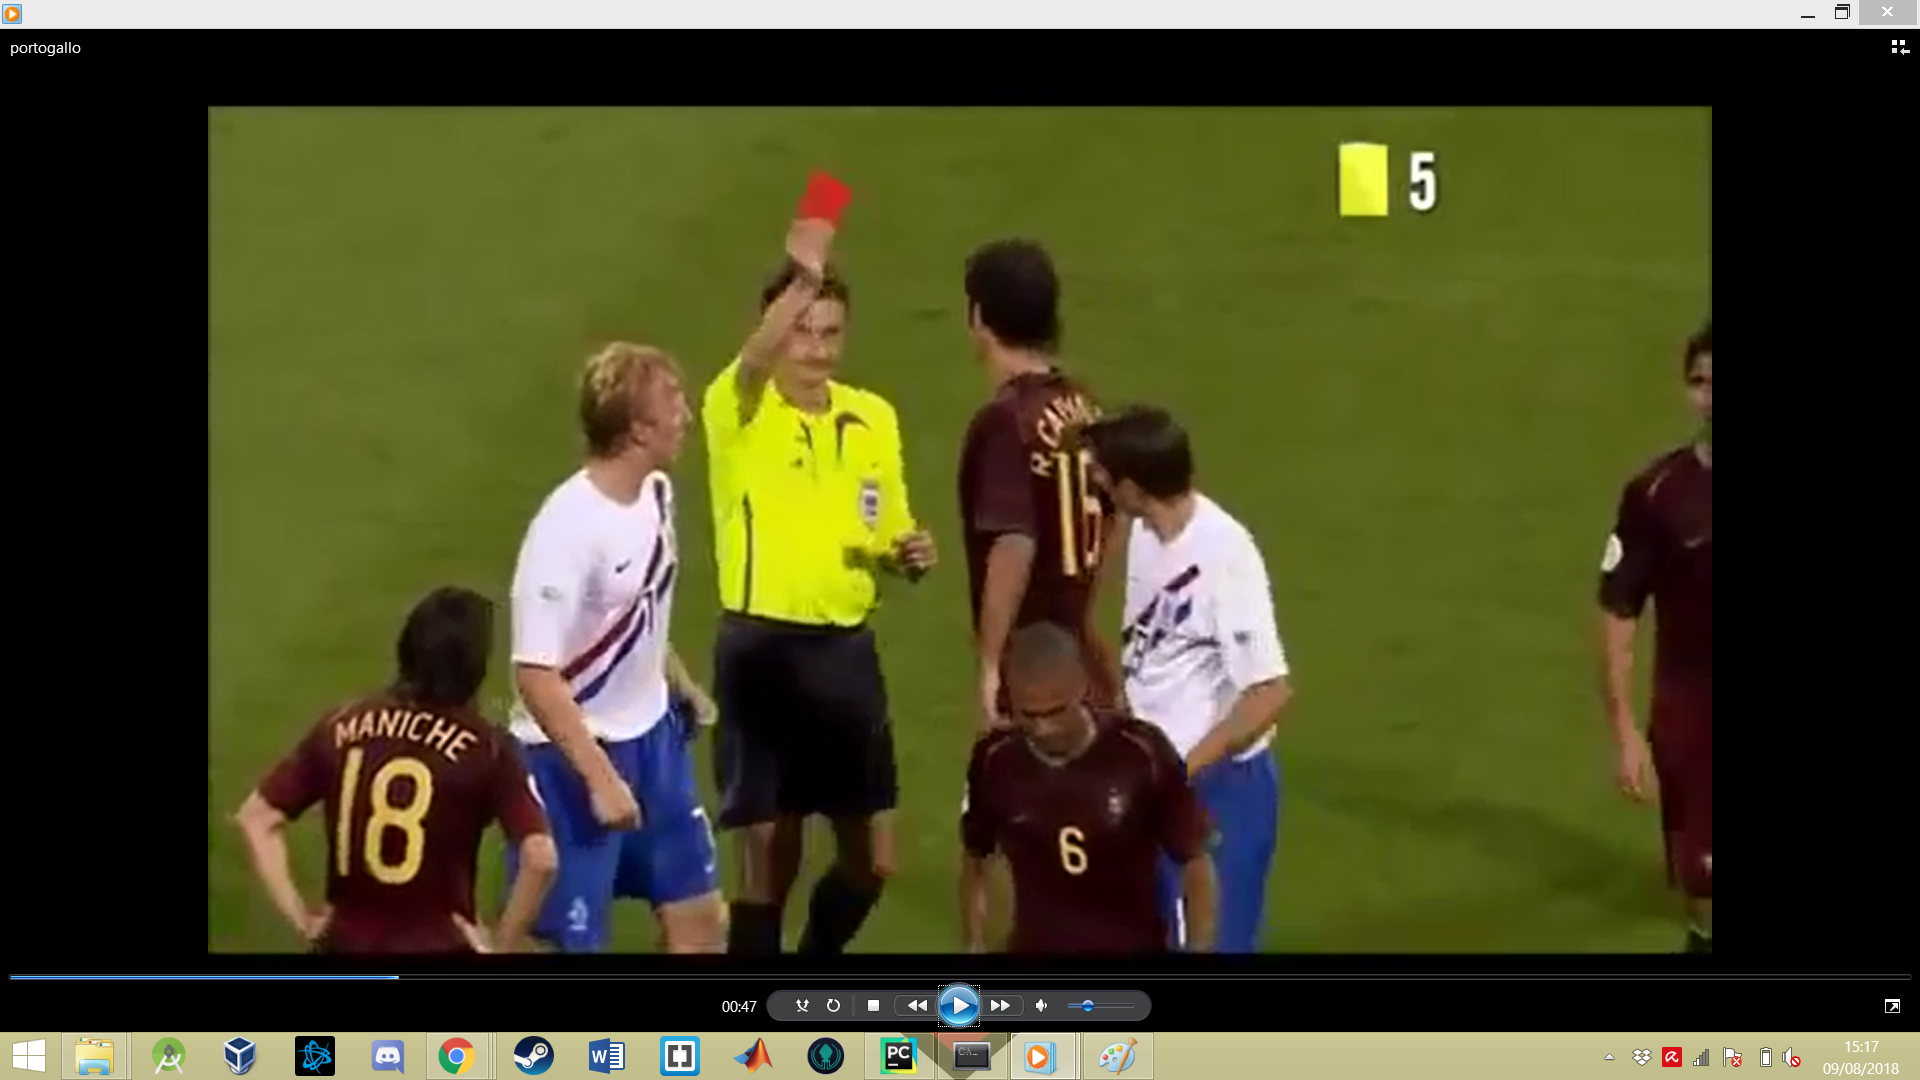red_card: (771, 160, 855, 290)
